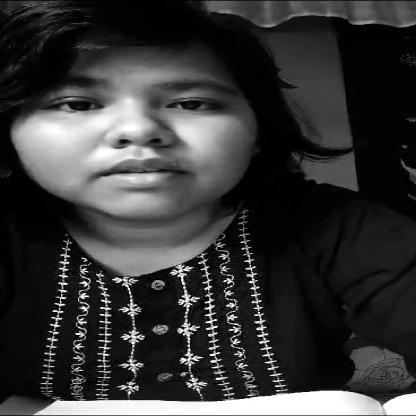Normal: (8, 13, 284, 222)
